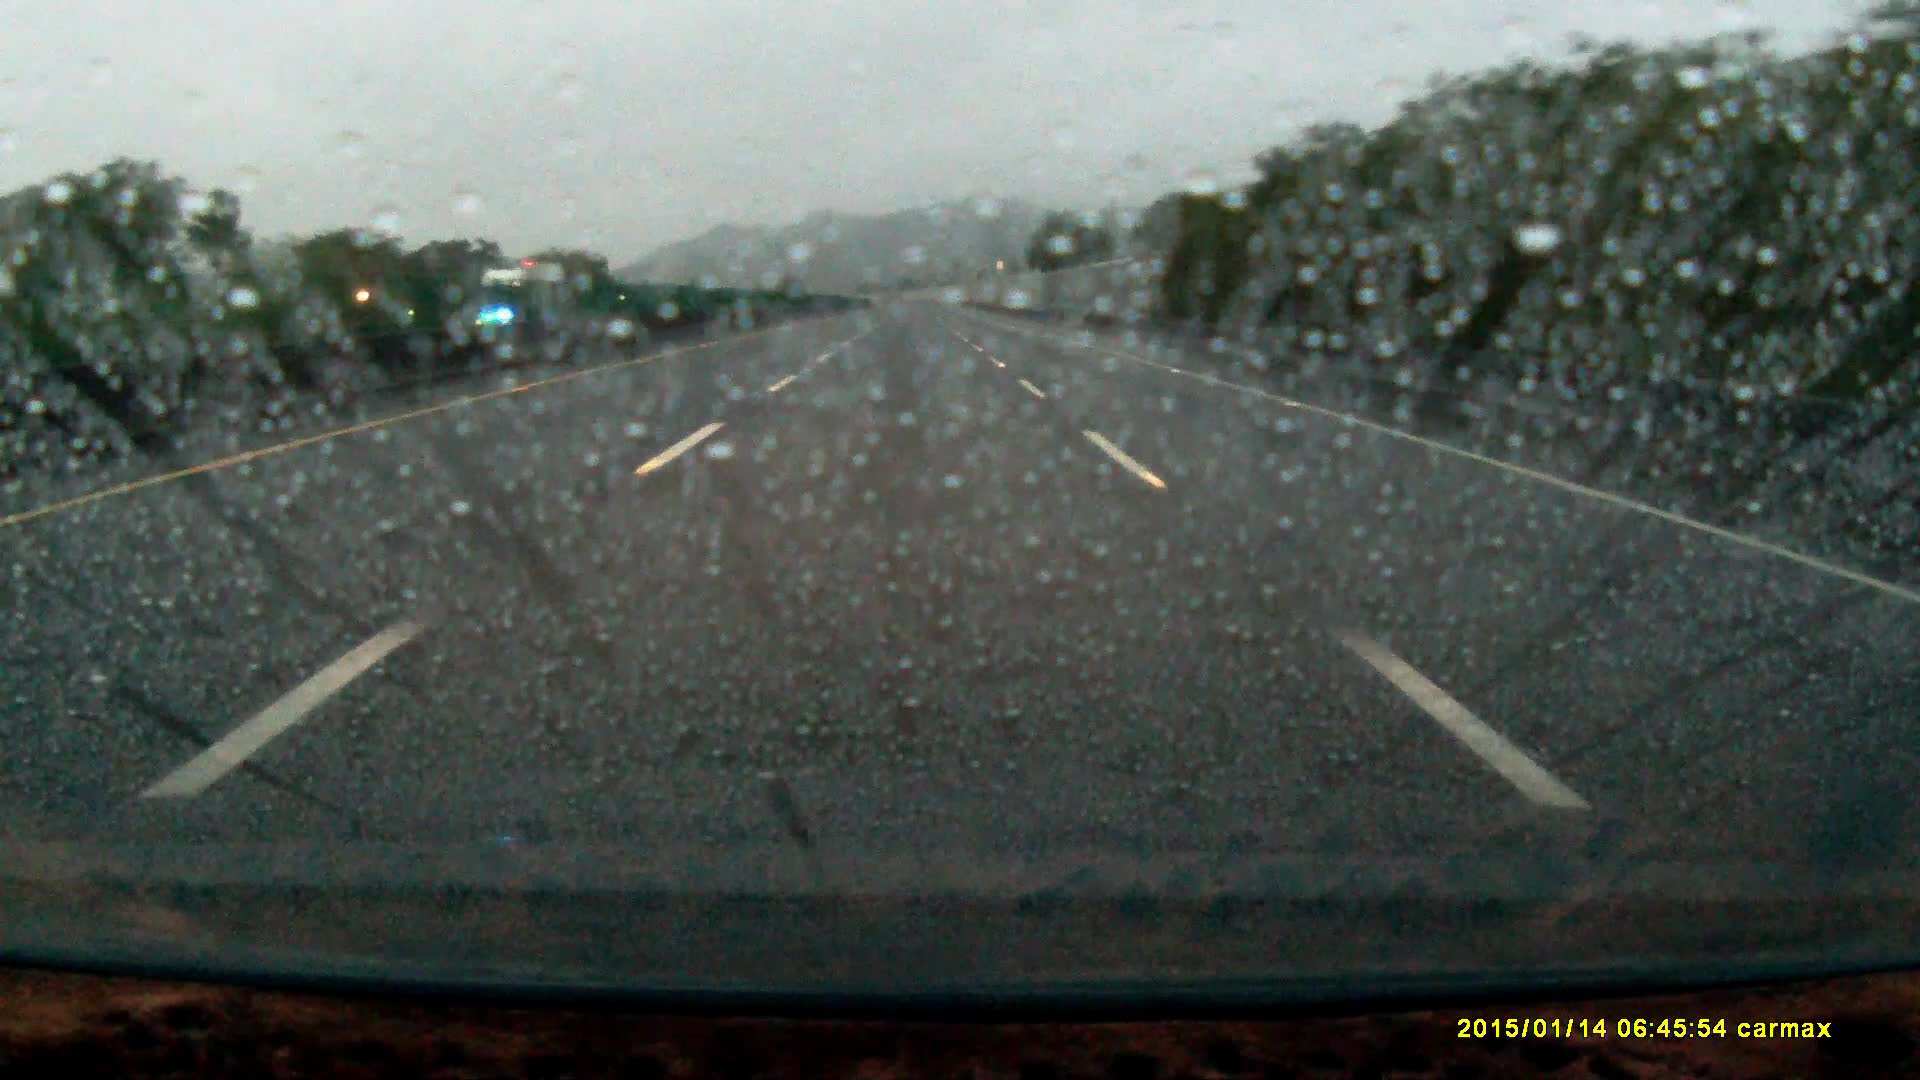vehicle: (475, 258, 567, 336)
